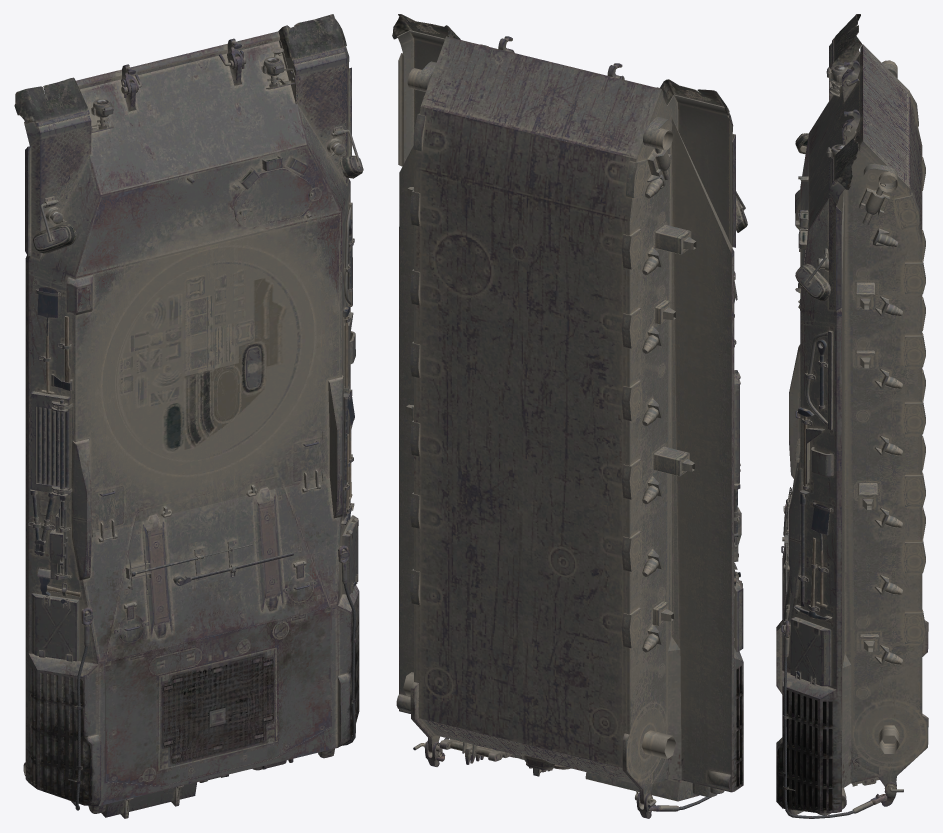
Rendered from Hull.glb.
The picture shows the model from 3 angles, left to right: view 1: azimuth 30°, elevation 25°; view 2: azimuth 150°, elevation 25°; view 3: azimuth 270°, elevation 25°; orthographic projection. The views are drawn at different scales.
Parts seen in each view (by area): view 1: set_0_group_0; view 2: set_0_group_0; view 3: set_0_group_0.
Boxes of the visible parts, left/top/right/bottom form: set_0_group_0: left=14, top=14, right=363, bottom=818; set_0_group_0: left=392, top=14, right=747, bottom=818; set_0_group_0: left=776, top=14, right=928, bottom=818.
Size of the model in its own units: 3.31 by 6.95 by 1.4.
Materials: 1 (1 with a texture image).
